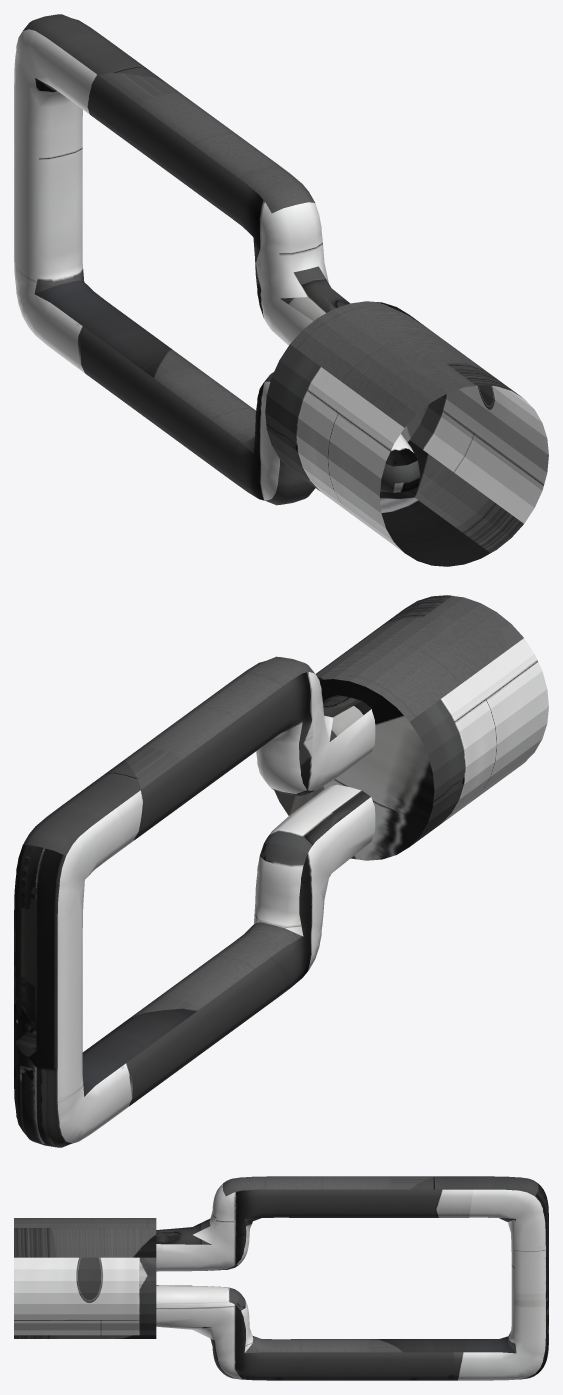
File: Generator Rotor_Coil.fbx
The picture shows the model from 3 angles, top to bottom: view 1: azimuth 30°, elevation 25°; view 2: azimuth 150°, elevation 25°; view 3: azimuth 270°, elevation 25°; orthographic projection. The views are drawn at different scales.
Parts seen in each view (by area): view 1: Copper_Coil_Body; view 2: Copper_Coil_Body; view 3: Copper_Coil_Body.
Boxes of the visible parts, x1=… form: Copper_Coil_Body: x1=14, y1=14, x2=548, y2=566; Copper_Coil_Body: x1=14, y1=595, x2=548, y2=1147; Copper_Coil_Body: x1=14, y1=1176, x2=548, y2=1380.
Size of the model in its own units: 44.31 by 79.32 by 196.
